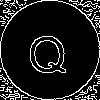Q: (25, 25, 69, 77)
